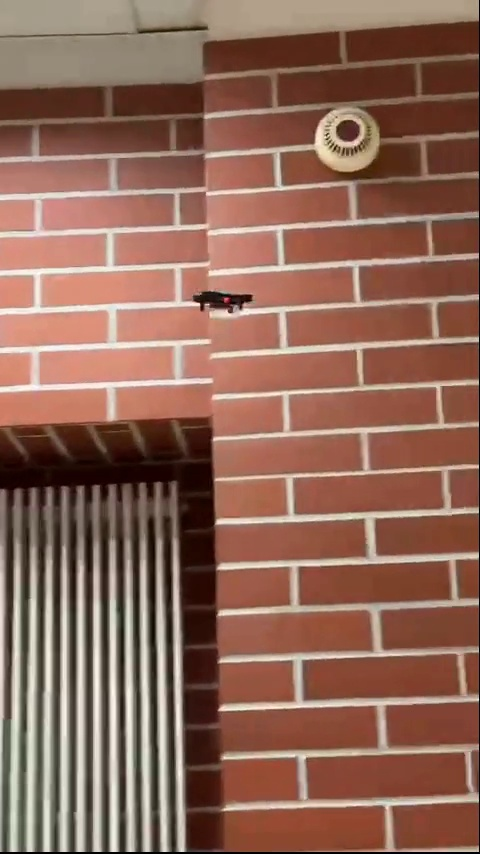drone: (190, 288, 265, 316)
